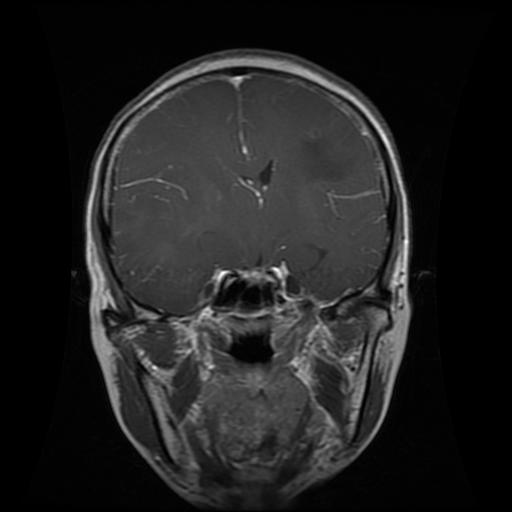Gliomia_tumour: (296, 136, 343, 182)
